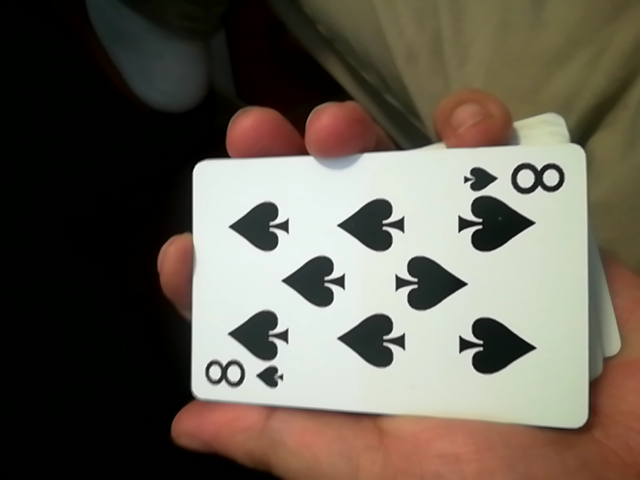ht 8: (171, 137, 574, 438)
